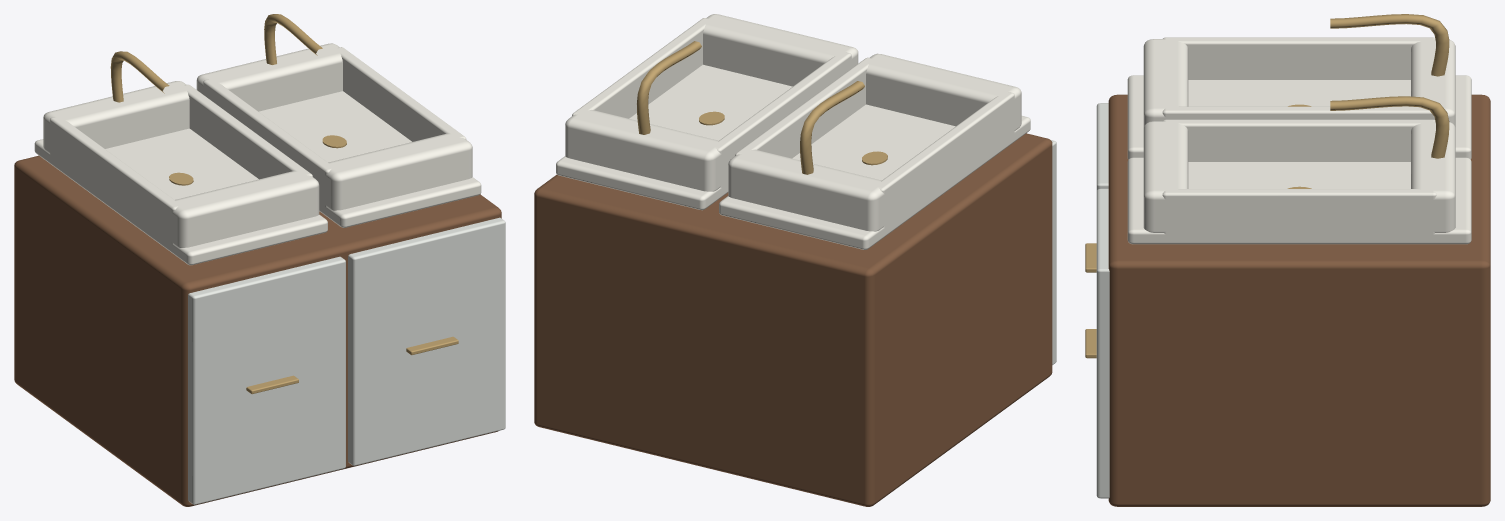
Rendered from sink-7-1.glb.
3 renders of one model, left to right at view 1: azimuth 30°, elevation 25°; view 2: azimuth 150°, elevation 25°; view 3: azimuth 270°, elevation 25°, orthographic. The views are drawn at different scales.
Parts seen in each view (by area): view 1: upholstery (×4); view 2: upholstery (×4); view 3: upholstery (×4).
Boxes of the visible parts, x1=… form: upholstery (×4): x1=14, y1=14, x2=505, y2=506; upholstery (×4): x1=534, y1=14, x2=1056, y2=506; upholstery (×4): x1=1085, y1=14, x2=1490, y2=506.
Bounding box in the file's own units: 1 × 1 × 1.
